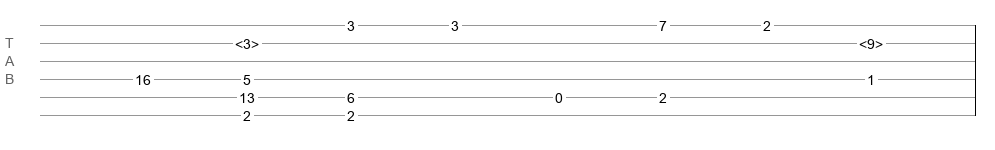0: (555, 90, 563, 100)
1: (867, 72, 875, 82)
13: (239, 90, 255, 100)
16: (135, 72, 151, 82)
2: (243, 108, 251, 118), (347, 108, 355, 118), (659, 90, 667, 100), (763, 18, 771, 28)
3: (347, 18, 355, 28), (451, 18, 459, 28)
5: (243, 72, 251, 82)
6: (347, 90, 355, 100)
7: (659, 18, 667, 28)
harmonic: (235, 36, 259, 46), (859, 36, 883, 46)
